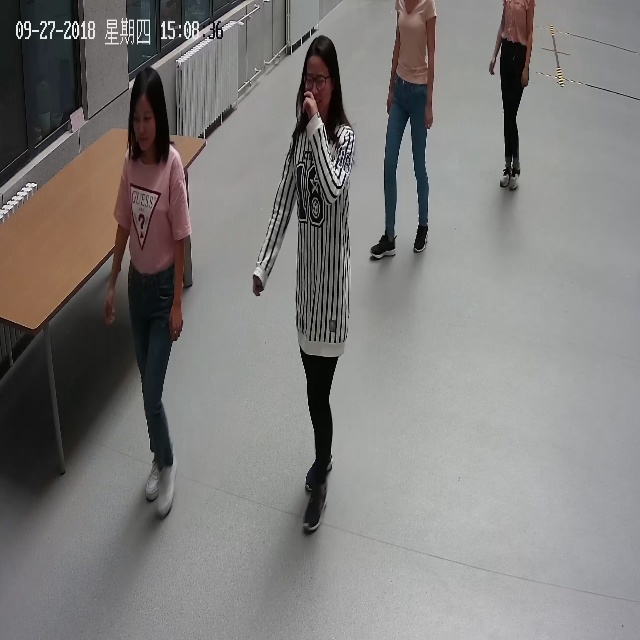head: (123, 65, 177, 161), (296, 32, 348, 118)
